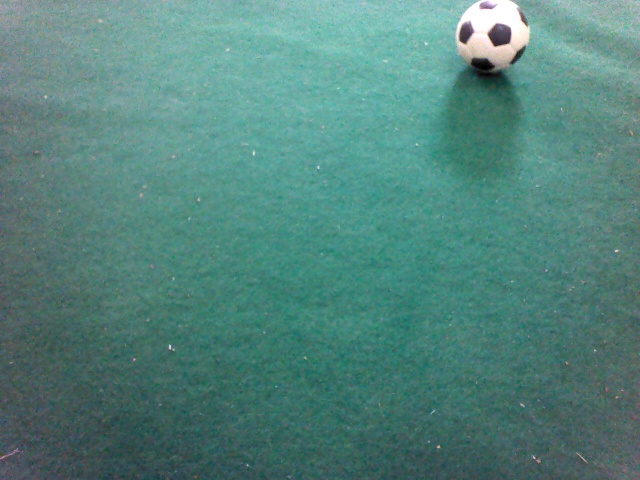ball: (19, 154, 155, 286)
